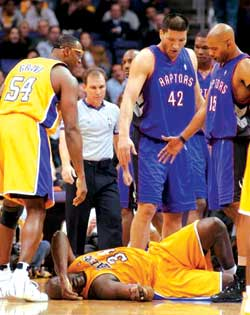10+: (5, 5, 250, 302)
down: (30, 217, 242, 310)
